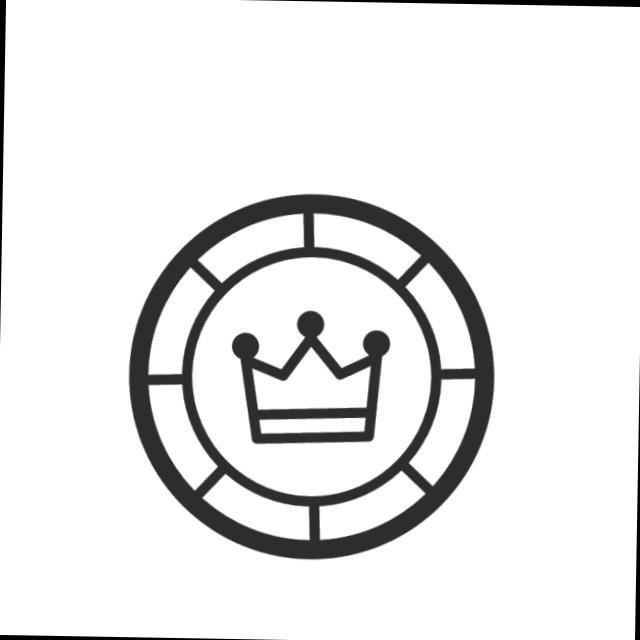coin: (120, 184, 507, 569)
